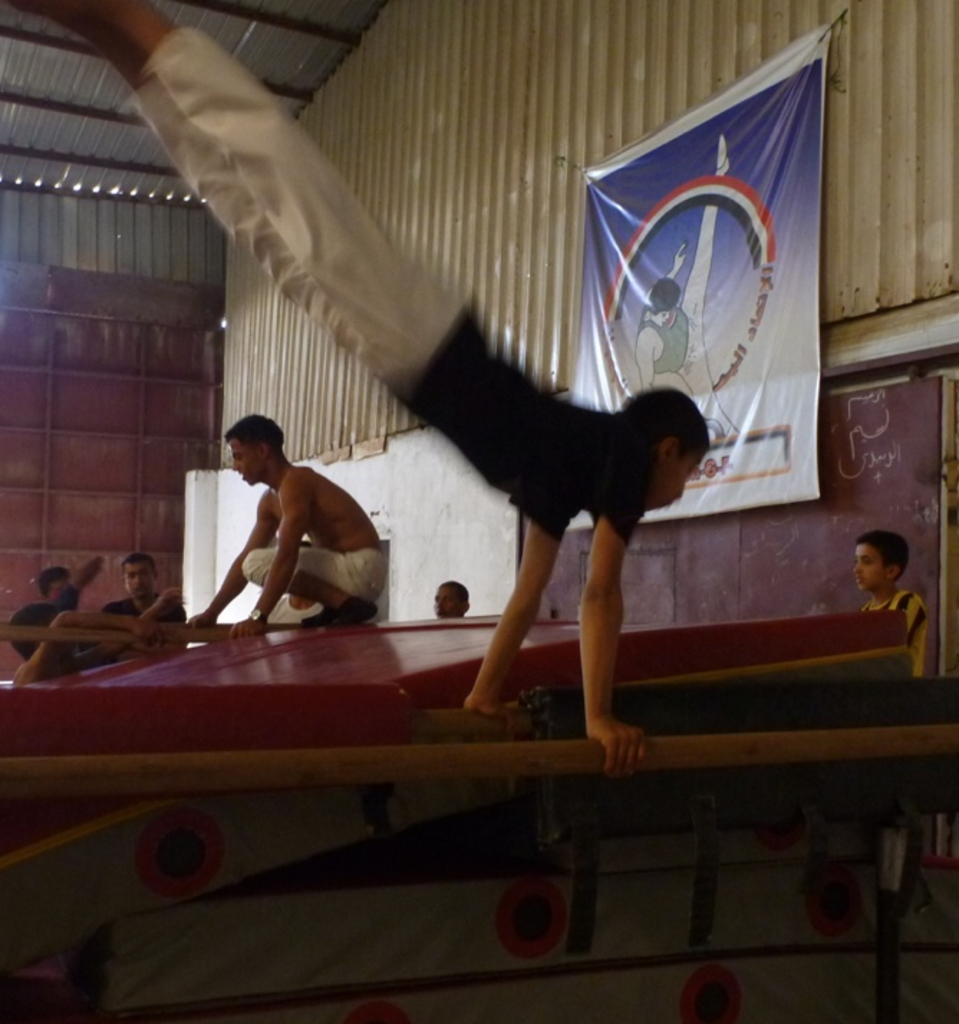Person: (0, 0, 711, 777), (845, 522, 931, 675), (1, 595, 71, 685), (427, 573, 473, 617)
